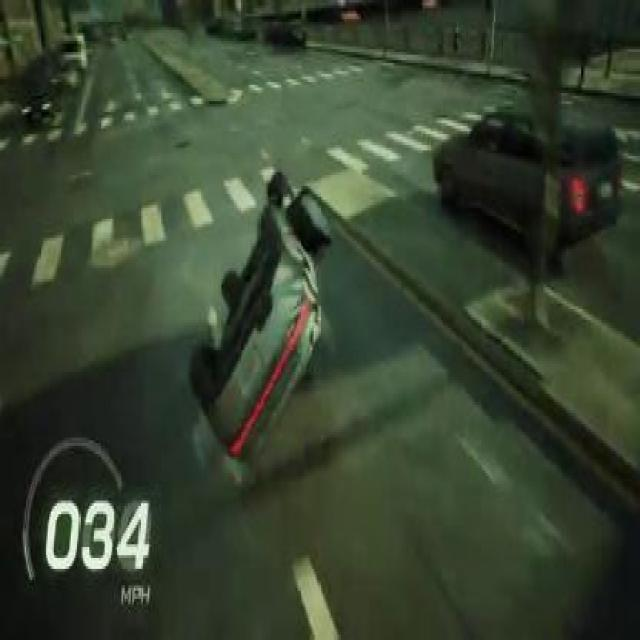accident: (185, 150, 328, 468)
